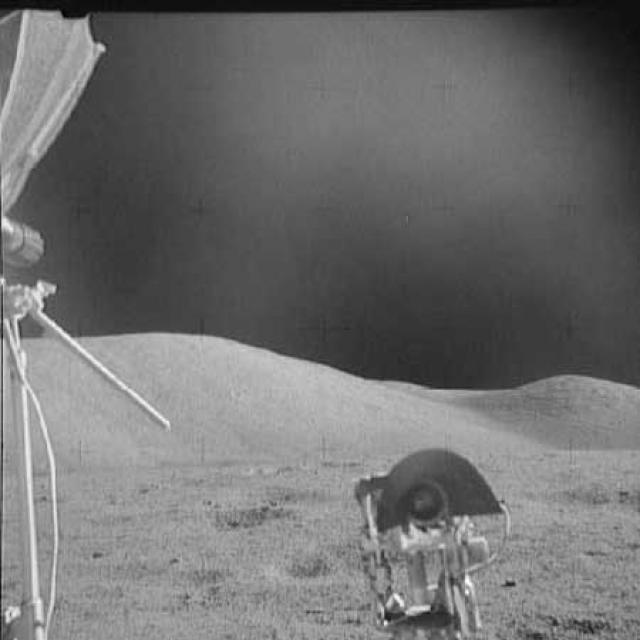artifact: (2, 276, 172, 638), (341, 446, 515, 638), (1, 9, 124, 274)
crater: (522, 478, 639, 510), (176, 502, 302, 530)
